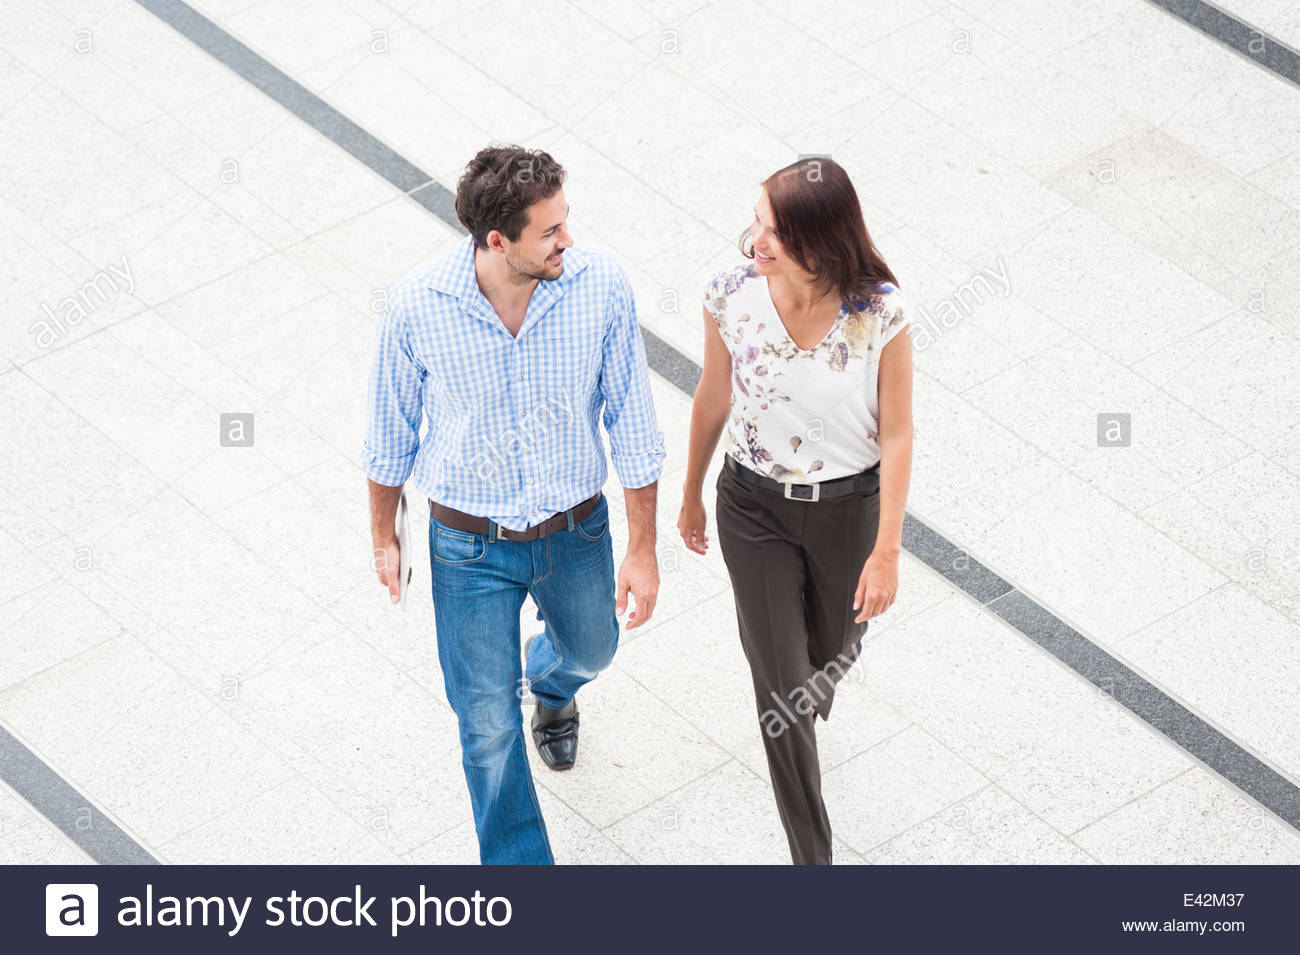Person: (353, 135, 676, 854), (671, 158, 932, 871)
